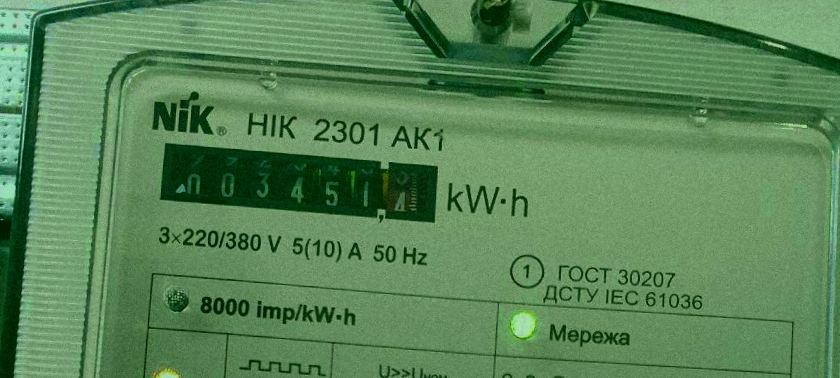0: (216, 169, 237, 198), (182, 168, 203, 196)
1: (356, 177, 373, 208)
3: (251, 168, 272, 199)
4: (285, 173, 306, 206), (388, 187, 409, 216)
5: (321, 176, 339, 208)
screen: (152, 137, 444, 230)
